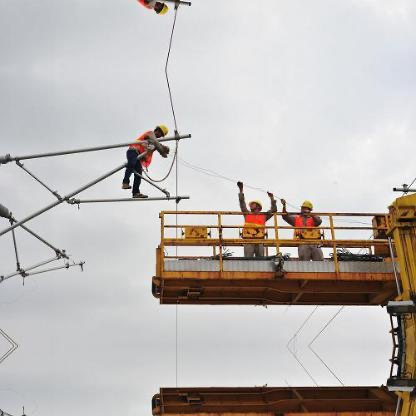Safety Helmet: (146, 118, 170, 143), (244, 194, 268, 219), (295, 199, 319, 217), (151, 1, 170, 14)
